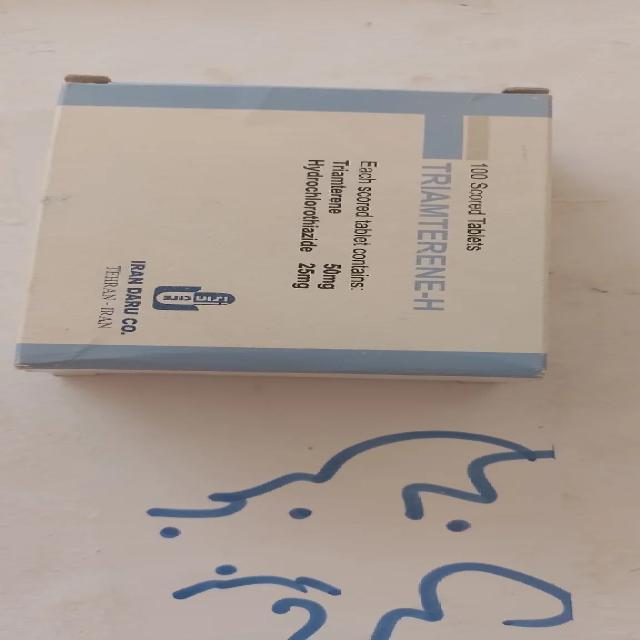drug-name: (409, 161, 455, 318)
